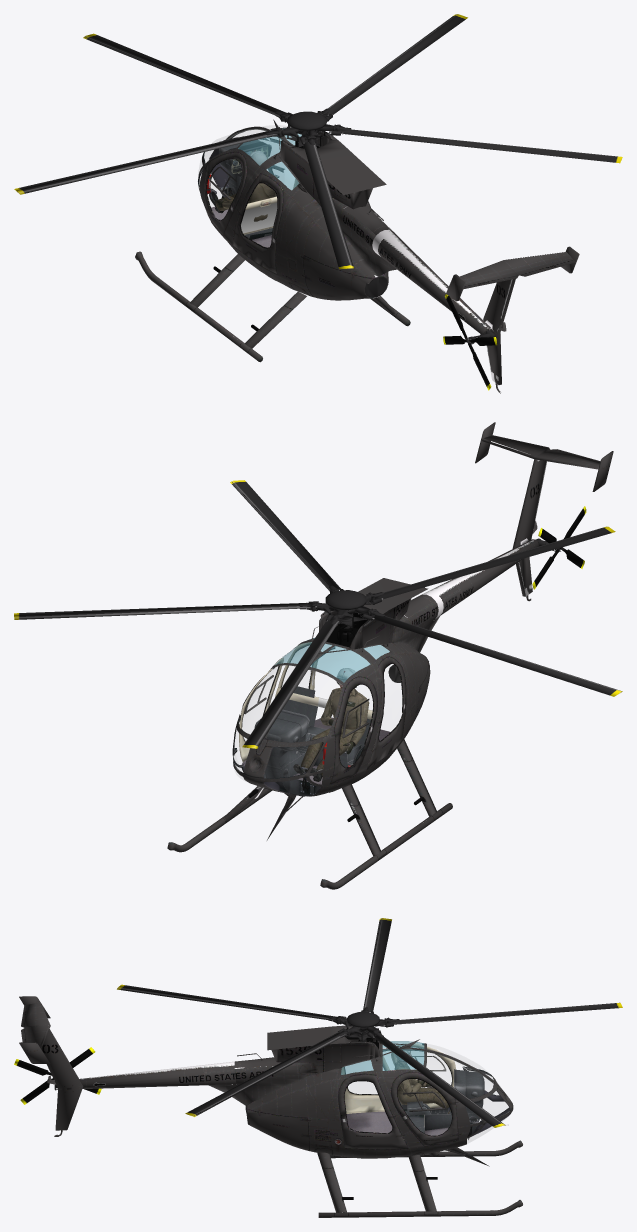
The picture shows the model from 3 angles, top to bottom: view 1: azimuth 30°, elevation 25°; view 2: azimuth 150°, elevation 25°; view 3: azimuth 270°, elevation 25°; orthographic projection. The views are drawn at different scales.
Visible parts, largest first — view 1: ext_fuse1, rotor_main, ext_fuse1_doors, ext_skids, glasss_grn, int_seats2, int_pilotR, int_console, rotor_tail, int_fuse2; view 2: ext_fuse1, rotor_main, ext_fuse1_doors, ext_skids, int_pilotR, int_console, glasss_grn, int_seats2, glass, int_fuse2, rotor_tail; view 3: ext_fuse1, rotor_main, ext_fuse1_doors, ext_skids, int_console, glass, glasss_grn, int_pilotR, int_fuse4, rotor_tail, int_fuse2, int_seats2.
Part boxes in pixels (<box>): ext_fuse1: <box>198,119,579,393</box>; rotor_main: <box>14,14,622,269</box>; ext_fuse1_doors: <box>204,152,299,273</box>; ext_skids: <box>135,251,410,362</box>; glasss_grn: <box>238,128,301,190</box>; int_seats2: <box>233,195,333,239</box>; int_pilotR: <box>209,150,277,221</box>; int_console: <box>206,139,271,194</box>; rotor_tail: <box>443,294,497,390</box>; int_fuse2: <box>198,128,285,197</box>; ext_fuse1: <box>233,422,613,840</box>; rotor_main: <box>14,480,622,748</box>; ext_fuse1_doors: <box>239,642,406,783</box>; ext_skids: <box>167,739,452,889</box>; int_pilotR: <box>293,668,369,781</box>; int_console: <box>254,709,327,791</box>; glasss_grn: <box>274,638,389,682</box>; int_seats2: <box>275,686,372,767</box>; glass: <box>234,666,310,781</box>; int_fuse2: <box>232,646,341,796</box>; rotor_tail: <box>532,506,586,589</box>; ext_fuse1: <box>19,996,513,1166</box>; rotor_main: <box>117,918,622,1127</box>; ext_fuse1_doors: <box>338,1043,458,1149</box>; ext_skids: <box>317,1140,522,1217</box>; int_console: <box>424,1069,484,1132</box>; glass: <box>348,1044,508,1143</box>; glasss_grn: <box>341,1041,424,1074</box>; int_pilotR: <box>394,1043,449,1108</box>; int_fuse4: <box>346,1107,448,1135</box>; rotor_tail: <box>14,1047,101,1104</box>; int_fuse2: <box>382,1043,511,1136</box>; int_seats2: <box>390,1070,431,1133</box>.
Bounding box in the file's own units: 7.48 × 2.89 × 9.2.
11 materials, 11 textured.
